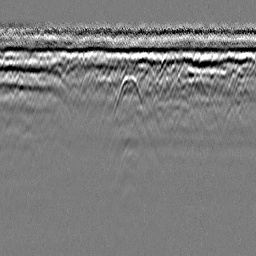cavity: (111, 72, 143, 117)
